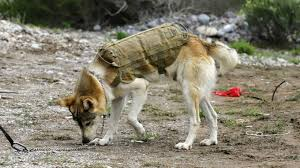Lobo: (57, 30, 239, 148)
